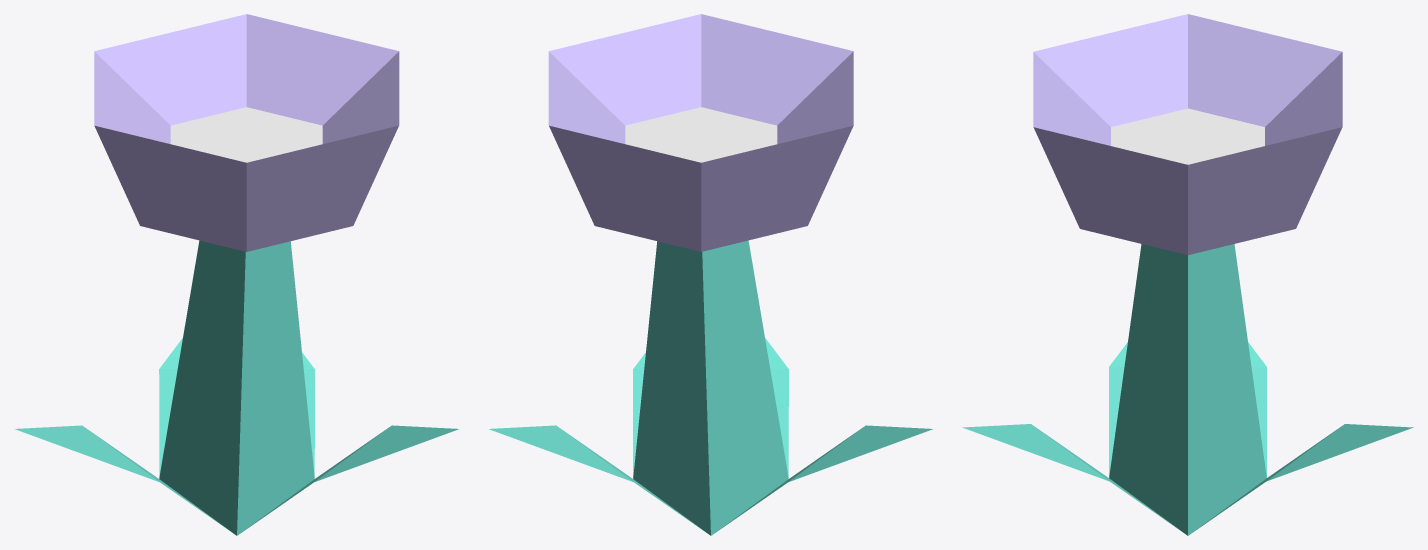
Rendered from flower_purpleC.glb.
3 renders of one model, left to right at view 1: azimuth 30°, elevation 25°; view 2: azimuth 150°, elevation 25°; view 3: azimuth 270°, elevation 25°, orthographic.
Parts seen in each view (by area): view 1: flower_purpleC; view 2: flower_purpleC; view 3: flower_purpleC.
Boxes of the visible parts, x1,y1,x2,y2 form: flower_purpleC: (15, 14, 458, 535); flower_purpleC: (489, 14, 932, 535); flower_purpleC: (962, 14, 1413, 535).
Size of the model in its own units: 0.1806 by 0.1825 by 0.1811.
